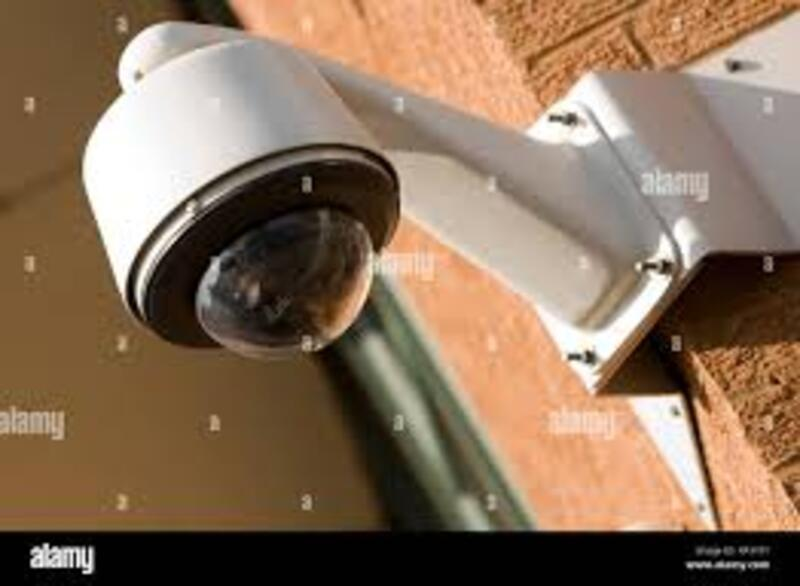dome: (96, 80, 417, 379)
